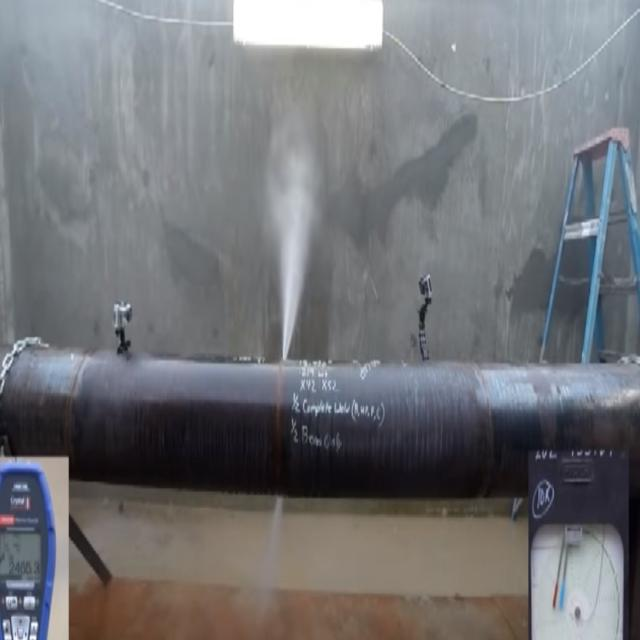leak: (281, 148, 325, 362)
